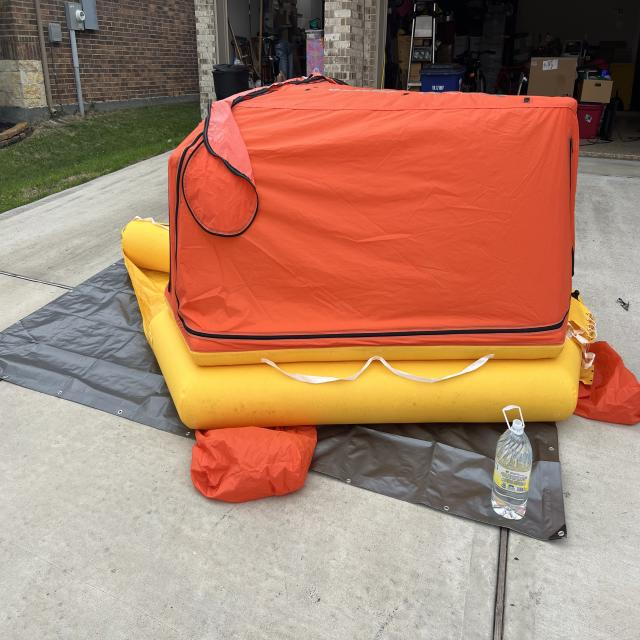Multi-person_life_raft: (120, 70, 640, 505)
